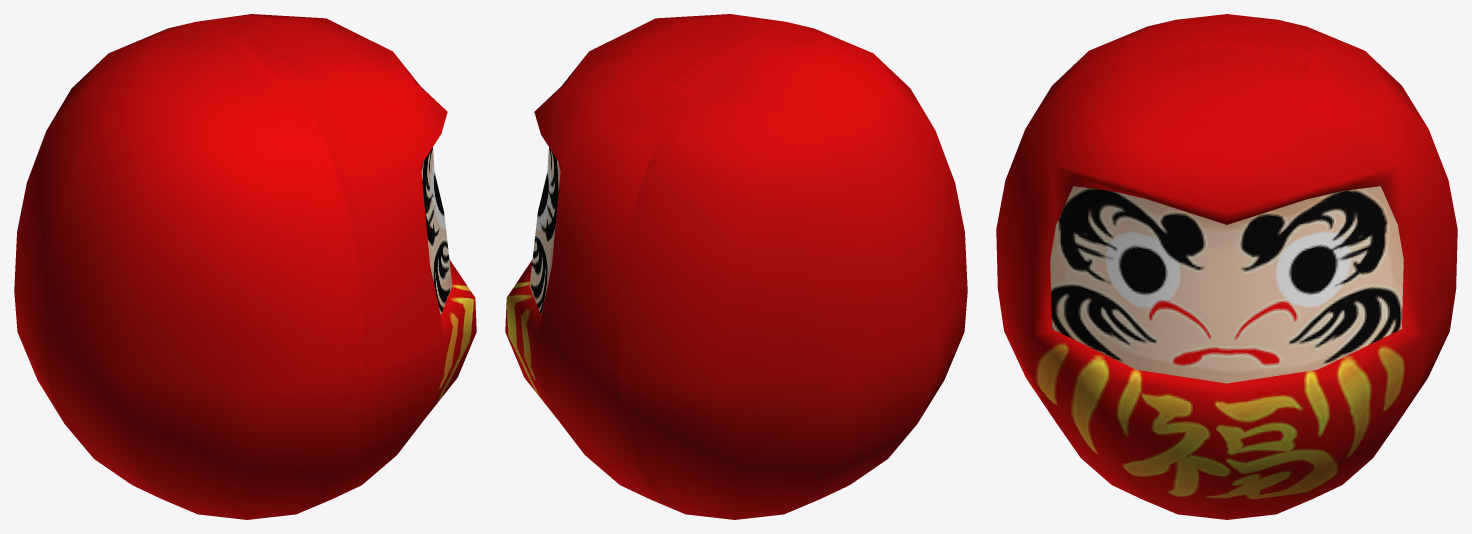
File: daruma.fbx
The picture shows the model from 3 angles, left to right: view 1: azimuth 30°, elevation 25°; view 2: azimuth 150°, elevation 25°; view 3: azimuth 270°, elevation 25°; orthographic projection.
Parts seen in each view (by area): view 1: pCylinder11; view 2: pCylinder11; view 3: pCylinder11.
Boxes of the visible parts, bbox=[...] form: pCylinder11: bbox=[14, 14, 476, 519]; pCylinder11: bbox=[505, 14, 967, 519]; pCylinder11: bbox=[996, 14, 1457, 519].
Size of the model in its own units: 2.62 by 2.69 by 2.6.
